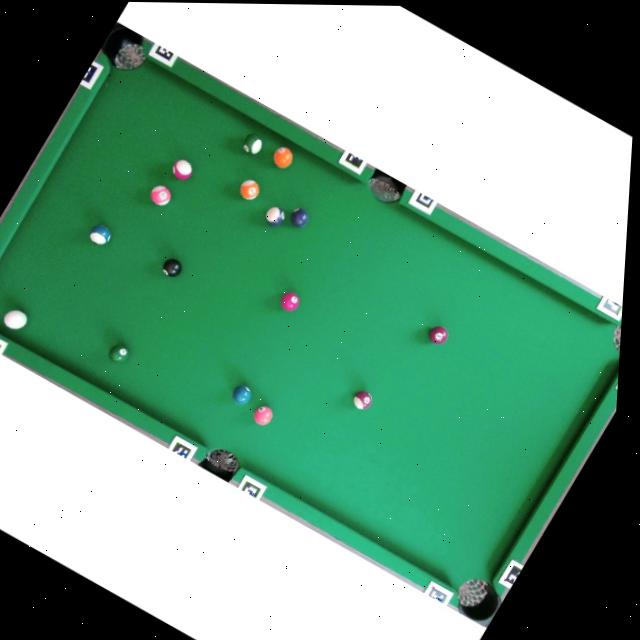cue ball: (0, 304, 31, 335)
other: (145, 180, 175, 210), (103, 339, 134, 368), (167, 155, 197, 183), (268, 144, 297, 171), (238, 131, 266, 158), (235, 176, 263, 203), (85, 221, 114, 247), (228, 381, 255, 408), (158, 255, 186, 281), (285, 204, 313, 230), (276, 288, 303, 314), (348, 386, 375, 412), (249, 402, 276, 428), (424, 322, 452, 347), (262, 204, 288, 229)
